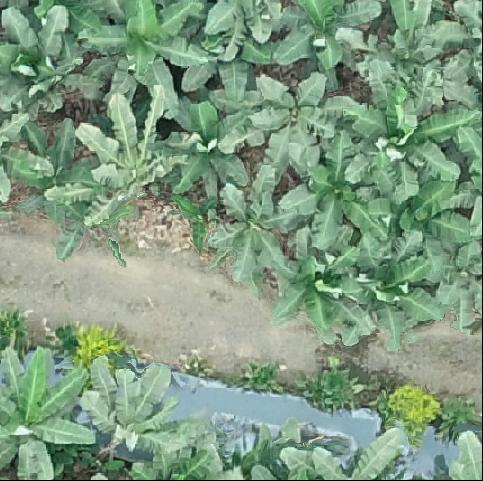Banana-plant: (63, 92, 187, 237), (342, 83, 476, 193), (85, 0, 203, 112), (0, 348, 84, 481), (282, 143, 385, 245), (242, 77, 339, 177), (89, 360, 185, 459), (206, 174, 290, 282), (0, 7, 79, 120), (382, 179, 475, 273), (347, 253, 438, 347), (169, 101, 246, 201), (267, 239, 355, 326), (274, 0, 384, 66)
